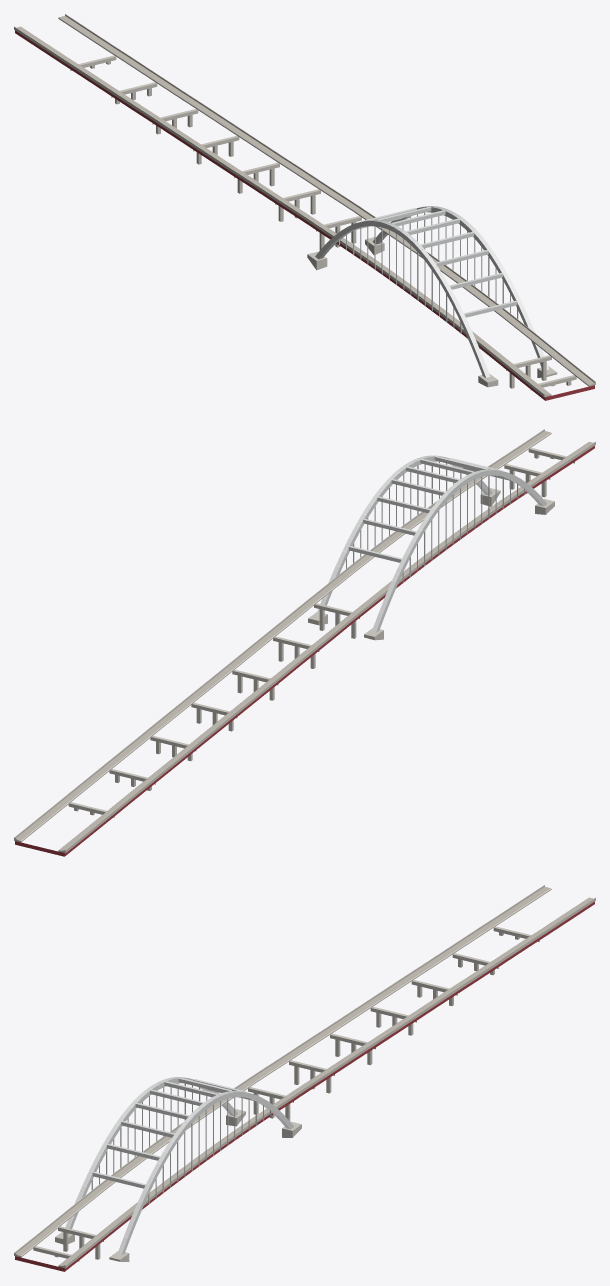
File: nash-gateway-bridge.glb
3 views of the same model, one above another, from view 1: azimuth 30°, elevation 25°; view 2: azimuth 150°, elevation 25°; view 3: azimuth 330°, elevation 25° (orthographic).
Parts seen in each view (by area): view 1: Gateway Bridge; view 2: Gateway Bridge; view 3: Gateway Bridge.
Part boxes in pixels (box(x1,y1,x2,y2)): Gateway Bridge: box(14, 14, 595, 400); Gateway Bridge: box(14, 429, 595, 856); Gateway Bridge: box(14, 885, 595, 1271).
Bounding box in the file's own units: 38 × 53.31 × 518.
